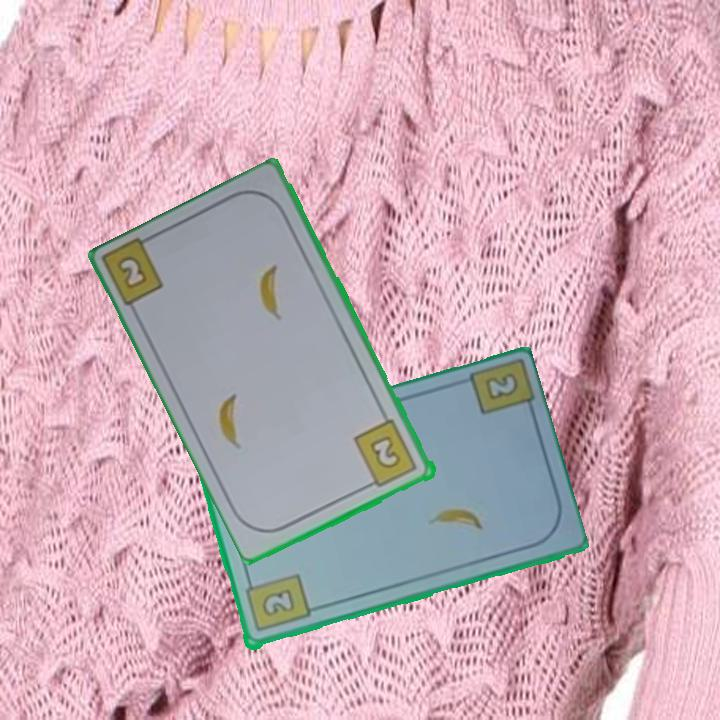2b: (350, 416, 421, 491), (241, 571, 312, 635), (481, 372, 521, 404), (117, 255, 147, 289)
